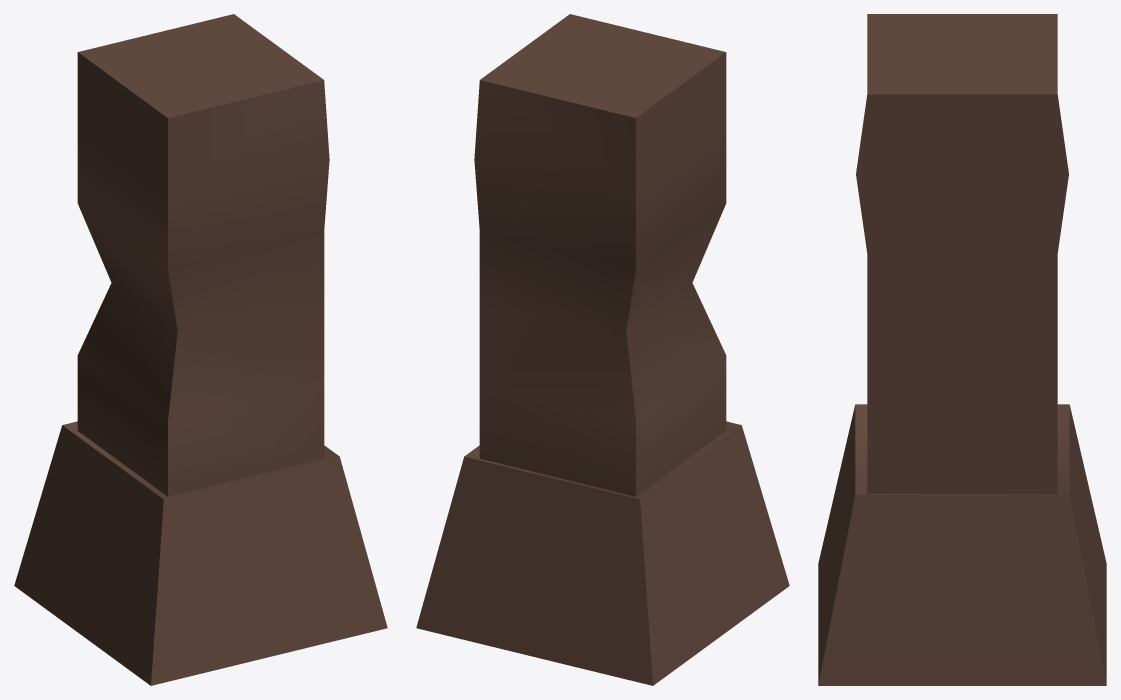
The model's file is Wood Pillar Bottom.fbx.
The picture shows the model from 3 angles, left to right: view 1: azimuth 30°, elevation 25°; view 2: azimuth 150°, elevation 25°; view 3: azimuth 270°, elevation 25°; orthographic projection. The views are drawn at different scales.
Visible parts, largest first — view 1: Wood_Pillar_Bottom; view 2: Wood_Pillar_Bottom; view 3: Wood_Pillar_Bottom.
Part boxes in pixels (x1=…): Wood_Pillar_Bottom: x1=14, y1=14, x2=387, y2=685; Wood_Pillar_Bottom: x1=416, y1=14, x2=789, y2=685; Wood_Pillar_Bottom: x1=818, y1=14, x2=1106, y2=685.
Bounding box in the file's own units: 0.4548 × 1 × 0.4548.
